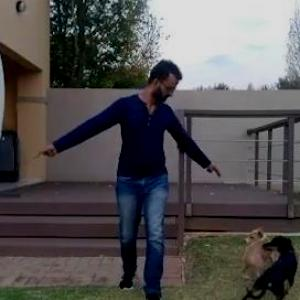land: (1, 43, 249, 299)
